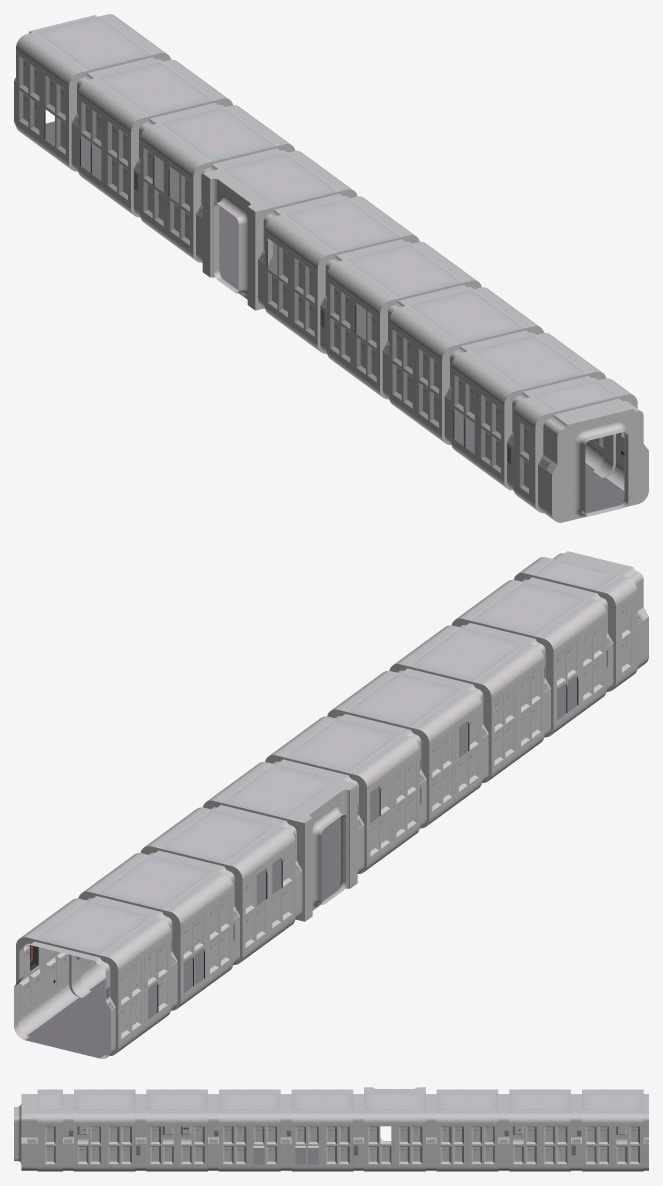
Rendered from thm_spc_corvette_dungeon_r12_hall12_mesh_r12.fbx.
3 renders of one model, top to bottom at view 1: azimuth 30°, elevation 25°; view 2: azimuth 150°, elevation 25°; view 3: azimuth 270°, elevation 25°, orthographic. The views are drawn at different scales.
Parts seen in each view (by area): view 1: mesh_node; view 2: mesh_node; view 3: mesh_node.
Boxes of the visible parts, x1,y1,x2,y2 form: mesh_node: (14, 14, 648, 522); mesh_node: (14, 551, 648, 1058); mesh_node: (14, 1087, 648, 1171).
Size of the model in its own units: 4 by 3.5 by 35.
